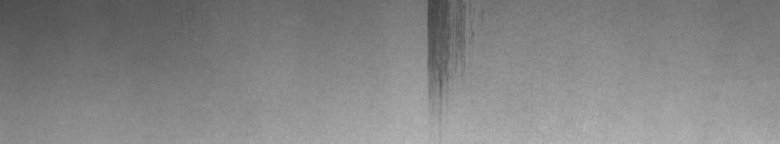ka: (421, 4, 475, 101)
